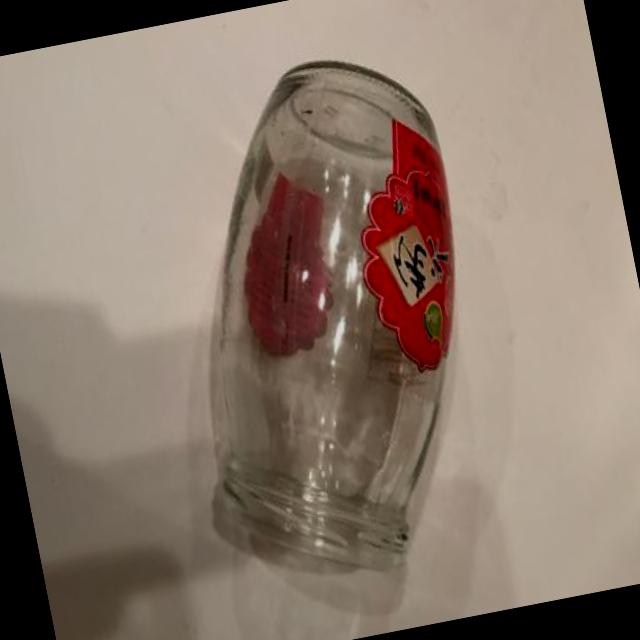chai_thuy_tinh: (208, 60, 455, 575)
